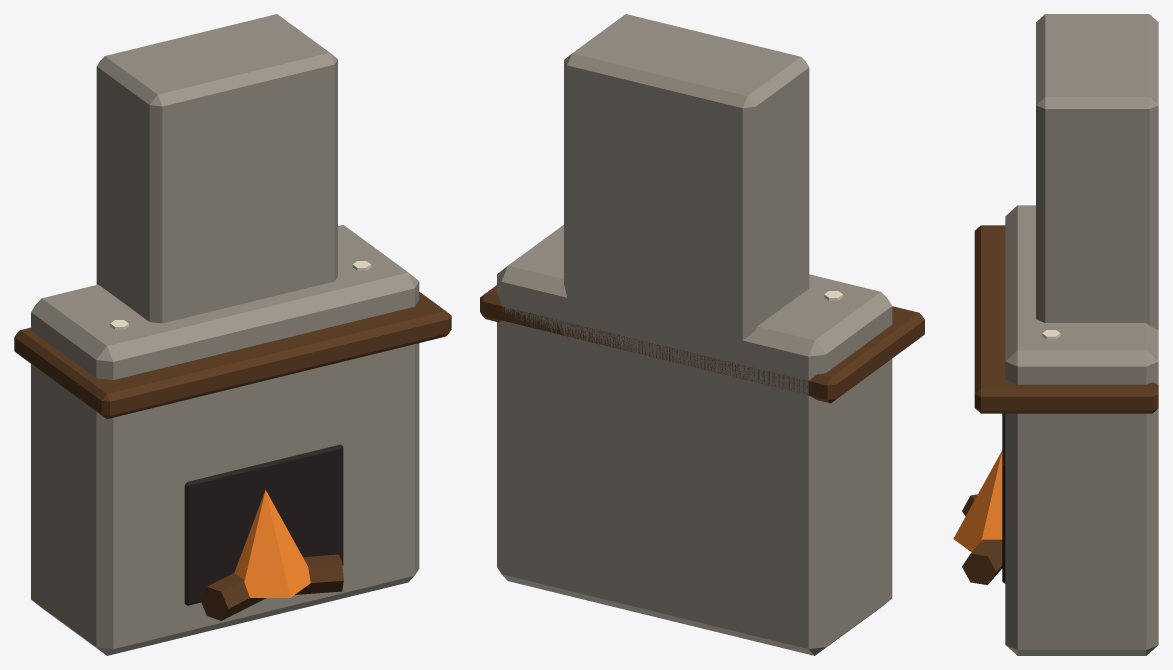
The model's file is PR_Decor_Somine.fbx.
3 views of the same model, side by side, from view 1: azimuth 30°, elevation 25°; view 2: azimuth 150°, elevation 25°; view 3: azimuth 270°, elevation 25° (orthographic). The views are drawn at different scales.
Parts seen in each view (by area): view 1: PR_Decor_Somine; view 2: PR_Decor_Somine; view 3: PR_Decor_Somine.
Part boxes in pixels (box(x1,y1,x2,y2)): PR_Decor_Somine: box(14, 14, 451, 655); PR_Decor_Somine: box(480, 14, 924, 655); PR_Decor_Somine: box(953, 14, 1158, 655).
Bounding box in the file's own units: 1.3 × 1.9 × 0.67.
